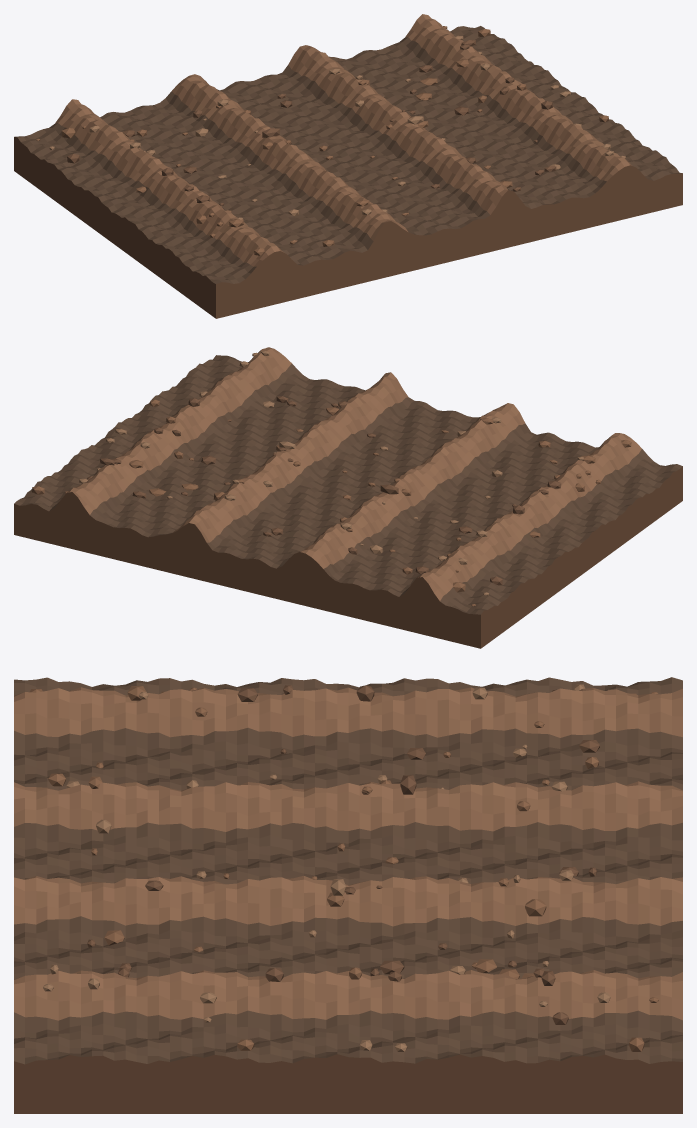
File: 玉米田土壤_四垄.glb
3 views of the same model, one above another, from view 1: azimuth 30°, elevation 25°; view 2: azimuth 150°, elevation 25°; view 3: azimuth 270°, elevation 25° (orthographic). The views are drawn at different scales.
Parts seen in each view (by area): view 1: 垄沟土壤_4米乘3米; view 2: 垄沟土壤_4米乘3米; view 3: 垄沟土壤_4米乘3米.
Part boxes in pixels (left/top/right/bottom): 垄沟土壤_4米乘3米: left=14, top=14, right=682, bottom=318; 垄沟土壤_4米乘3米: left=14, top=347, right=682, bottom=648; 垄沟土壤_4米乘3米: left=14, top=677, right=682, bottom=1113.
Size of the model in its own units: 4 by 0.4993 by 3.
